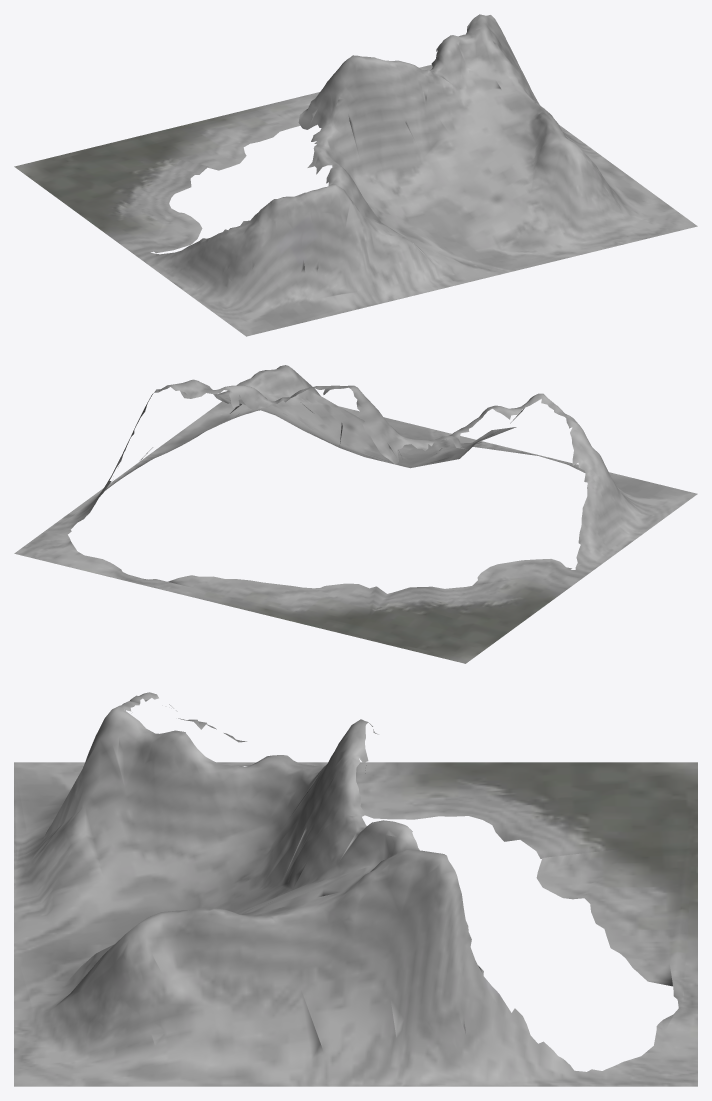
Rendered from mountain-ridge-balanced.glb.
3 renders of one model, top to bottom at view 1: azimuth 30°, elevation 25°; view 2: azimuth 150°, elevation 25°; view 3: azimuth 270°, elevation 25°, orthographic. The views are drawn at different scales.
Parts seen in each view (by area): view 1: mountain-ridge-balanced; view 2: mountain-ridge-balanced; view 3: mountain-ridge-balanced.
Boxes of the visible parts, left/top/right/bottom form: mountain-ridge-balanced: left=14, top=14, right=697, bottom=336; mountain-ridge-balanced: left=14, top=365, right=697, bottom=663; mountain-ridge-balanced: left=14, top=692, right=697, bottom=1086.
Bounding box in the file's own units: 2 × 0.5951 × 1.78.
1 material, 1 textured.
